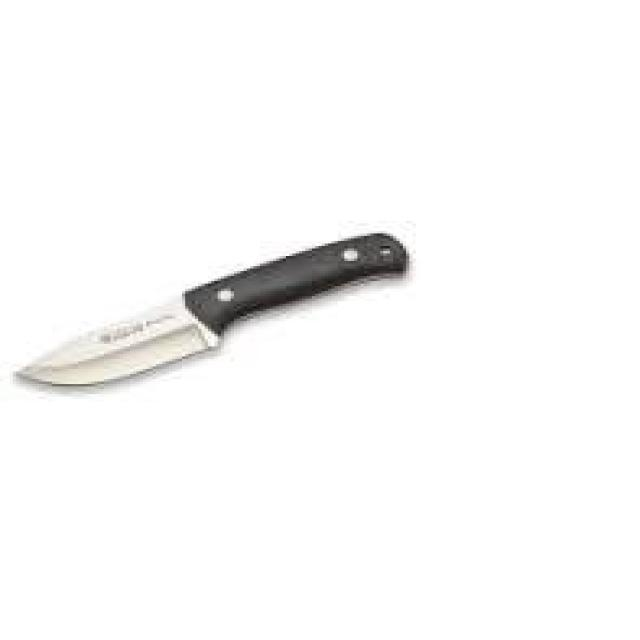Knife: (1, 222, 441, 398)
